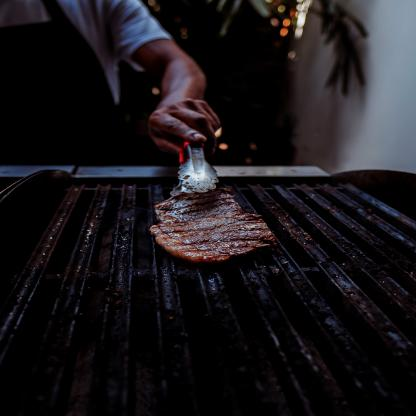Carne: (154, 189, 274, 264)
